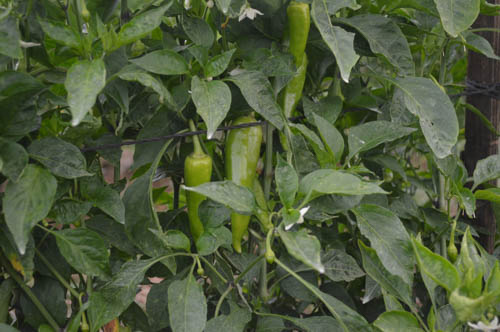ChiliPepper: (226, 116, 261, 250), (275, 59, 309, 133), (185, 154, 213, 241), (287, 1, 314, 58)
